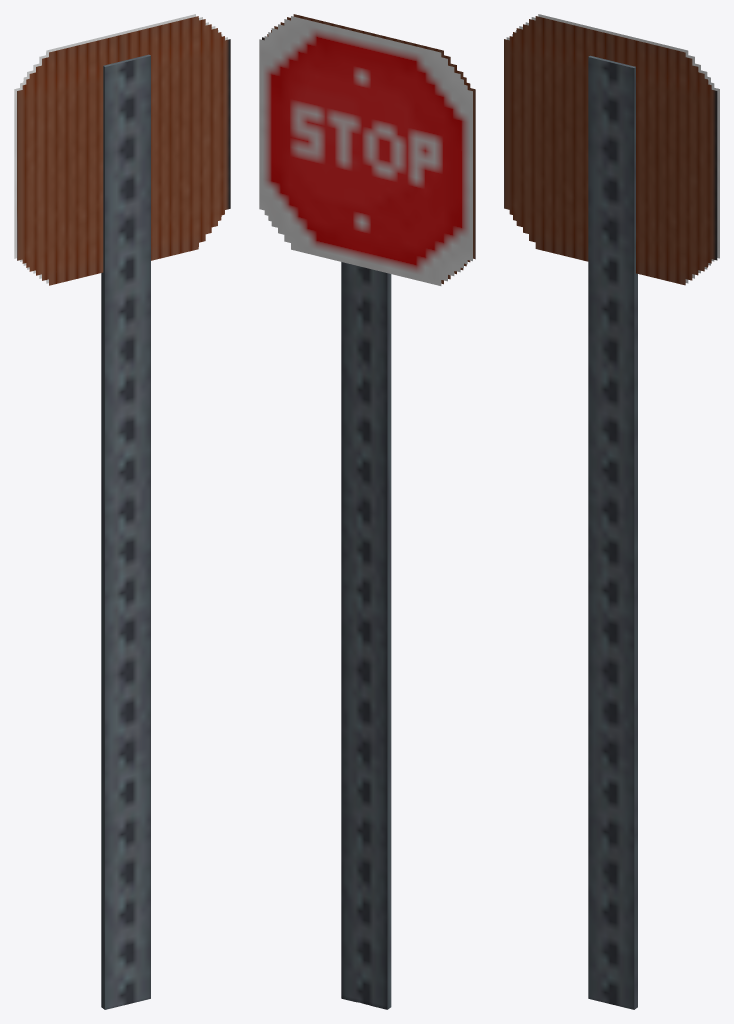
File: BLOCKYGON_STOP SIGN.fbx
3 views of the same model, side by side, from view 1: azimuth 30°, elevation 25°; view 2: azimuth 150°, elevation 25°; view 3: azimuth 330°, elevation 25° (orthographic).
Parts seen in each view (by area): view 1: BLOCKYGON_STOP_SIGN__5_; view 2: BLOCKYGON_STOP_SIGN__5_; view 3: BLOCKYGON_STOP_SIGN__5_.
Part boxes in pixels (x1,y1,x2,y2): BLOCKYGON_STOP_SIGN__5_: (14, 14, 230, 1009); BLOCKYGON_STOP_SIGN__5_: (259, 14, 475, 1009); BLOCKYGON_STOP_SIGN__5_: (504, 14, 719, 1009).
Size of the model in its own units: 48.04 by 208 by 1.75.
